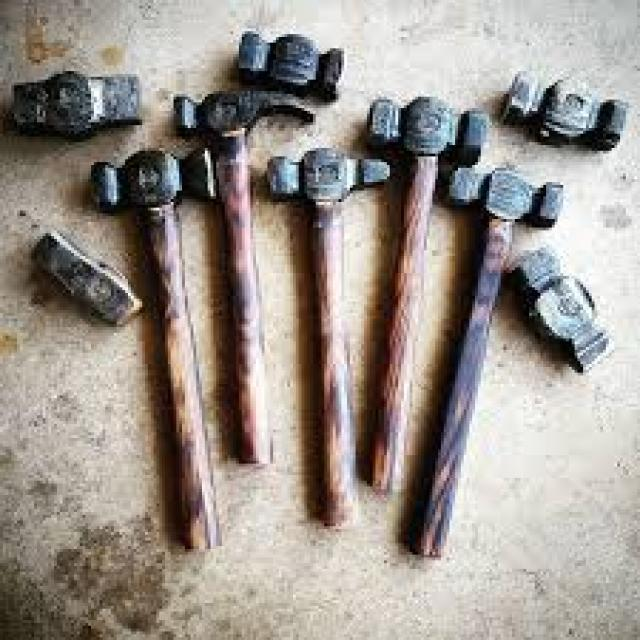hammer: (403, 155, 574, 582), (90, 144, 246, 554), (361, 86, 498, 526), (168, 82, 318, 476), (266, 136, 386, 534)
